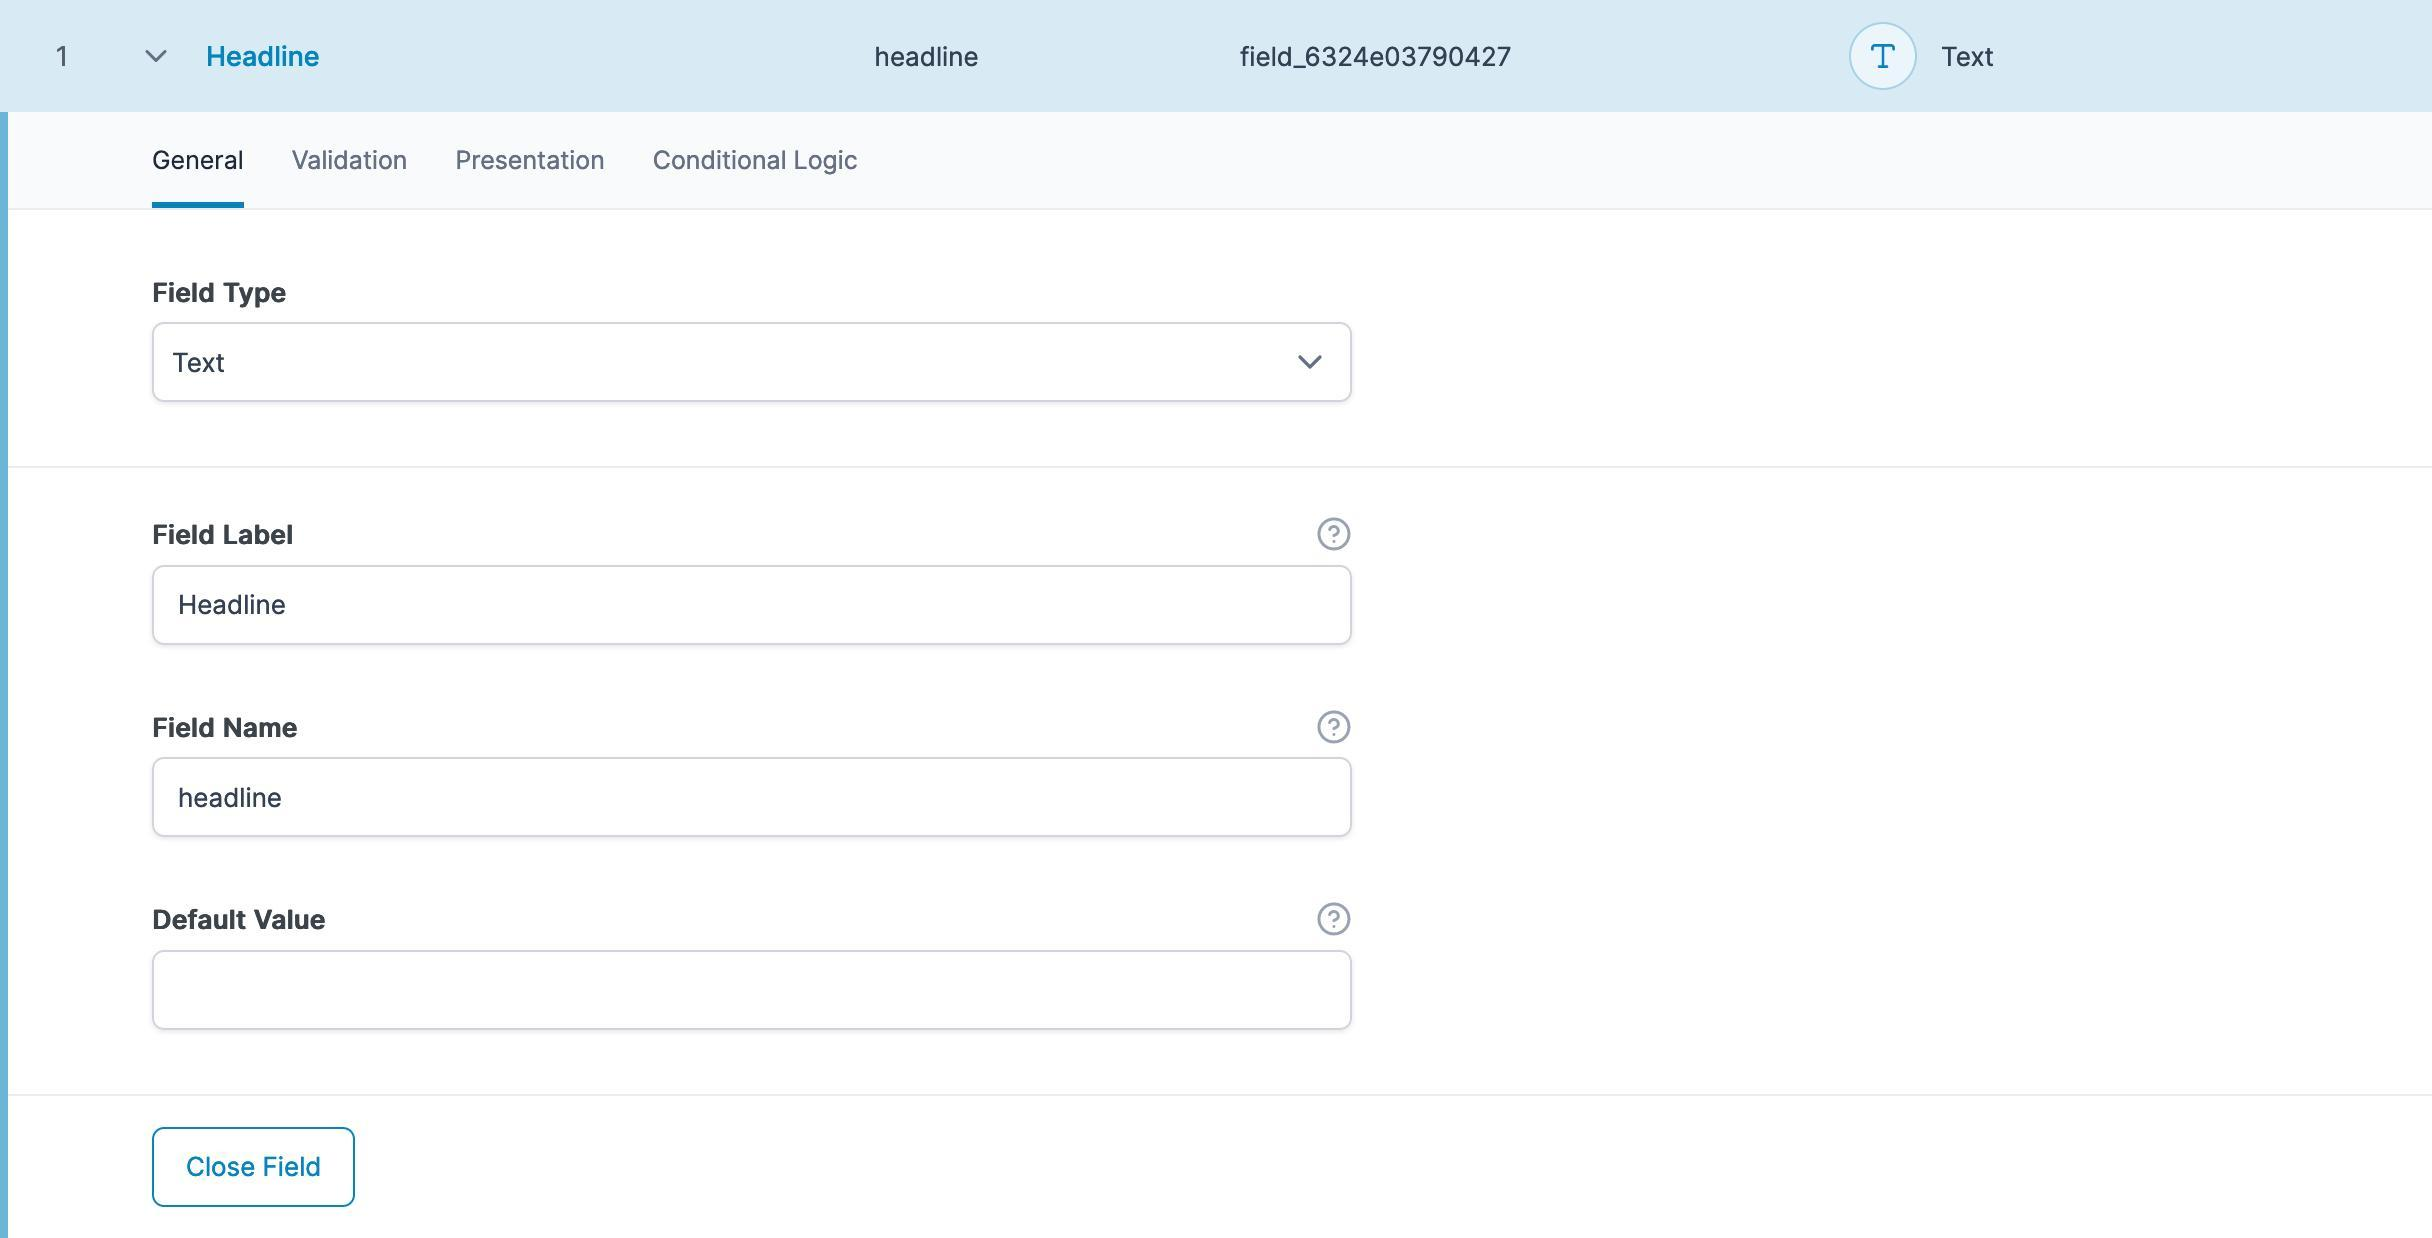button: (152, 1129, 357, 1205)
dropdown: (153, 324, 1353, 404)
icon: (1316, 894, 1353, 941), (1319, 707, 1356, 744), (1315, 515, 1349, 551), (140, 43, 175, 69)
input: (155, 949, 1356, 1031), (153, 567, 1351, 647), (153, 761, 1353, 838)
label: (144, 693, 308, 756), (145, 897, 347, 947), (148, 504, 309, 561), (136, 265, 305, 313), (443, 139, 615, 183), (647, 144, 863, 178), (205, 32, 339, 81), (286, 137, 415, 182), (150, 142, 253, 178), (1947, 36, 1996, 74)
